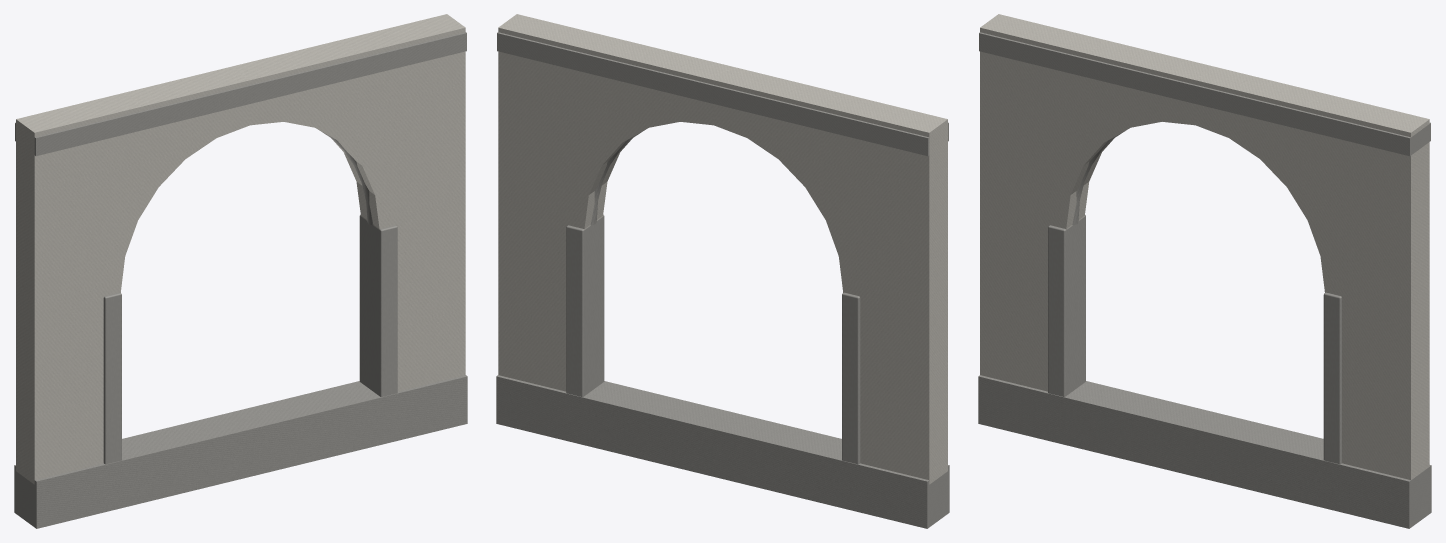
File: tactical-shooter-hill-town-wall-arched-passage-6f25f940__27516.glb
3 views of the same model, side by side, from view 1: azimuth 30°, elevation 25°; view 2: azimuth 150°, elevation 25°; view 3: azimuth 330°, elevation 25° (orthographic).
Parts seen in each view (by area): view 1: wall-arched-passage; view 2: wall-arched-passage; view 3: wall-arched-passage.
Boxes of the visible parts, <box> form: wall-arched-passage: <box>14,14,467,528</box>; wall-arched-passage: <box>496,14,949,528</box>; wall-arched-passage: <box>978,14,1431,528</box>.
Size of the model in its own units: 4 by 3.5 by 0.3599.
2 materials, 2 textured.
